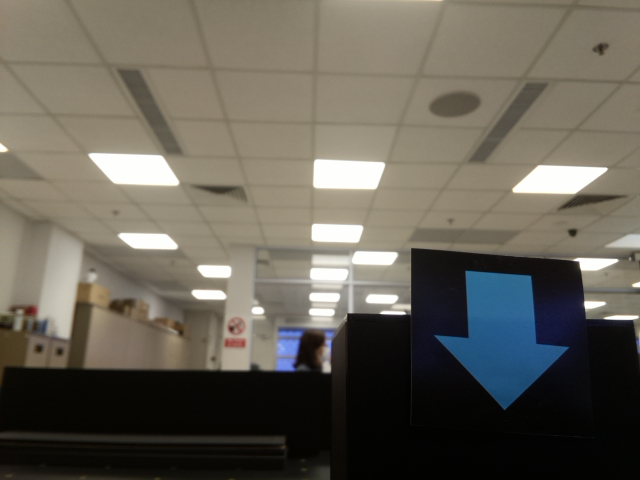down: (427, 269, 573, 413)
